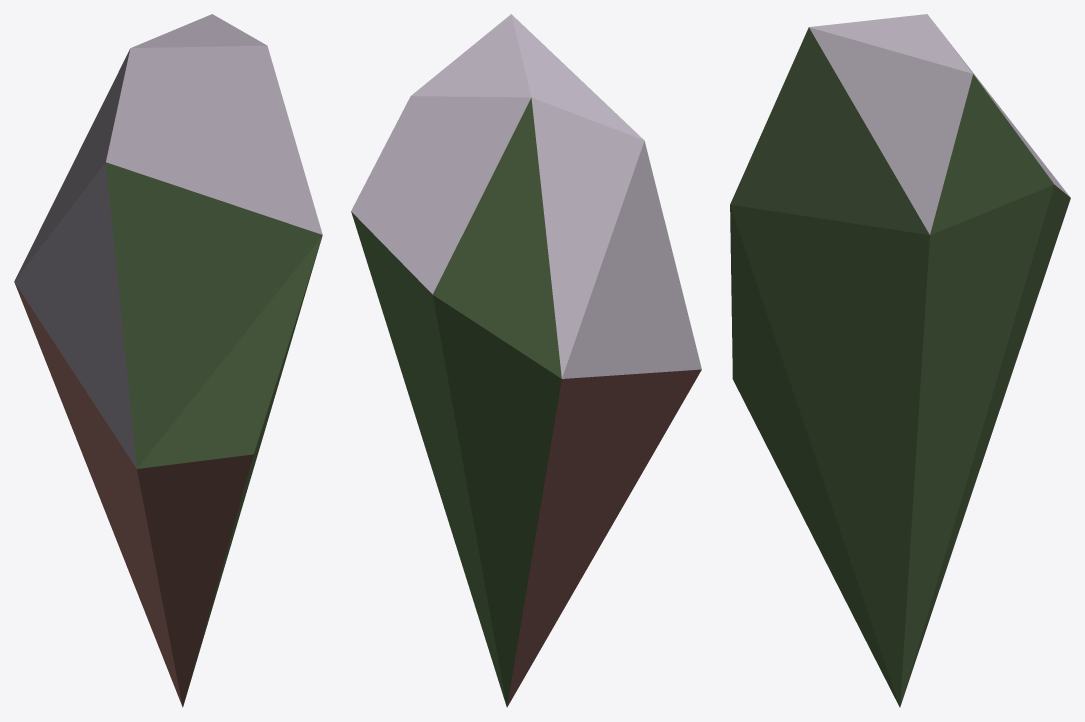
Rendered from CommonTree_Snow_3.lod4.glb.
The picture shows the model from 3 angles, left to right: view 1: azimuth 30°, elevation 25°; view 2: azimuth 150°, elevation 25°; view 3: azimuth 270°, elevation 25°; orthographic projection. The views are drawn at different scales.
Visible parts, largest first — view 1: CommonTree_Snow_3; view 2: CommonTree_Snow_3; view 3: CommonTree_Snow_3.
Boxes of the visible parts, box(x1,y1,x2,y2) form: CommonTree_Snow_3: box(14, 14, 322, 707); CommonTree_Snow_3: box(351, 14, 701, 707); CommonTree_Snow_3: box(730, 14, 1070, 707).
Size of the model in its own units: 1.24 by 3.47 by 1.53.
